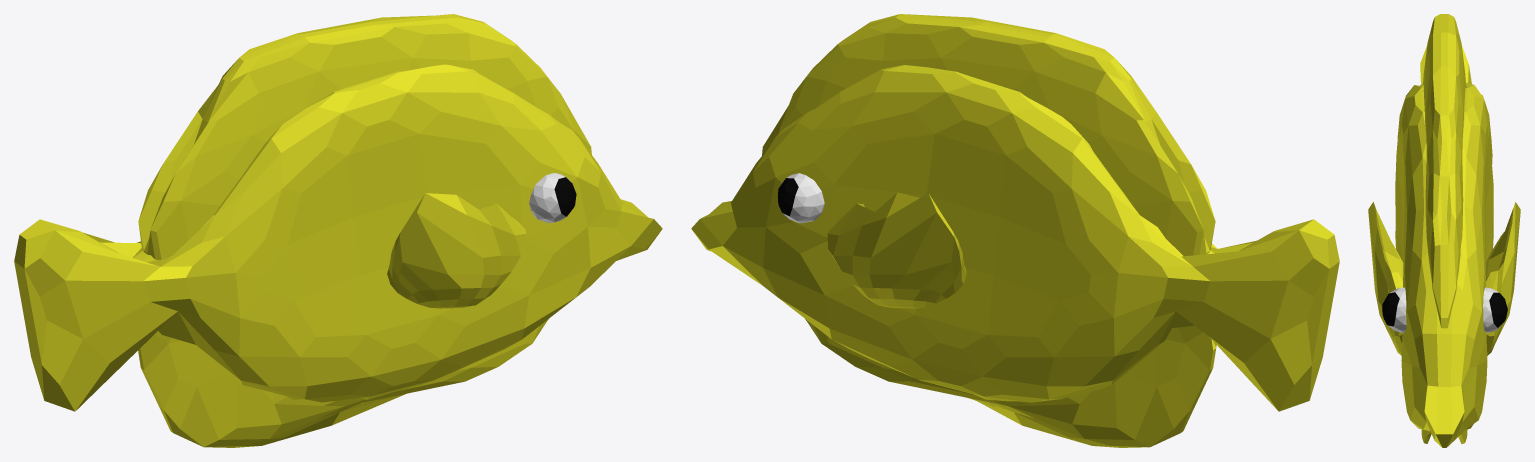
Rendered from YELLOW TANG.fbx.
3 renders of one model, left to right at view 1: azimuth 30°, elevation 25°; view 2: azimuth 150°, elevation 25°; view 3: azimuth 270°, elevation 25°, orthographic. The views are drawn at different scales.
Parts seen in each view (by area): view 1: Sphere.004; view 2: Sphere.004; view 3: Sphere.004.
Boxes of the visible parts, x1,y1,x2,y2 form: Sphere.004: (14, 14, 662, 447); Sphere.004: (691, 14, 1339, 447); Sphere.004: (1368, 14, 1520, 447).
Bounding box in the file's own units: 6.93 × 4.12 × 1.61.
